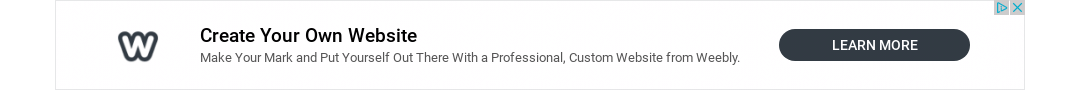fake_button: (772, 22, 976, 74)
